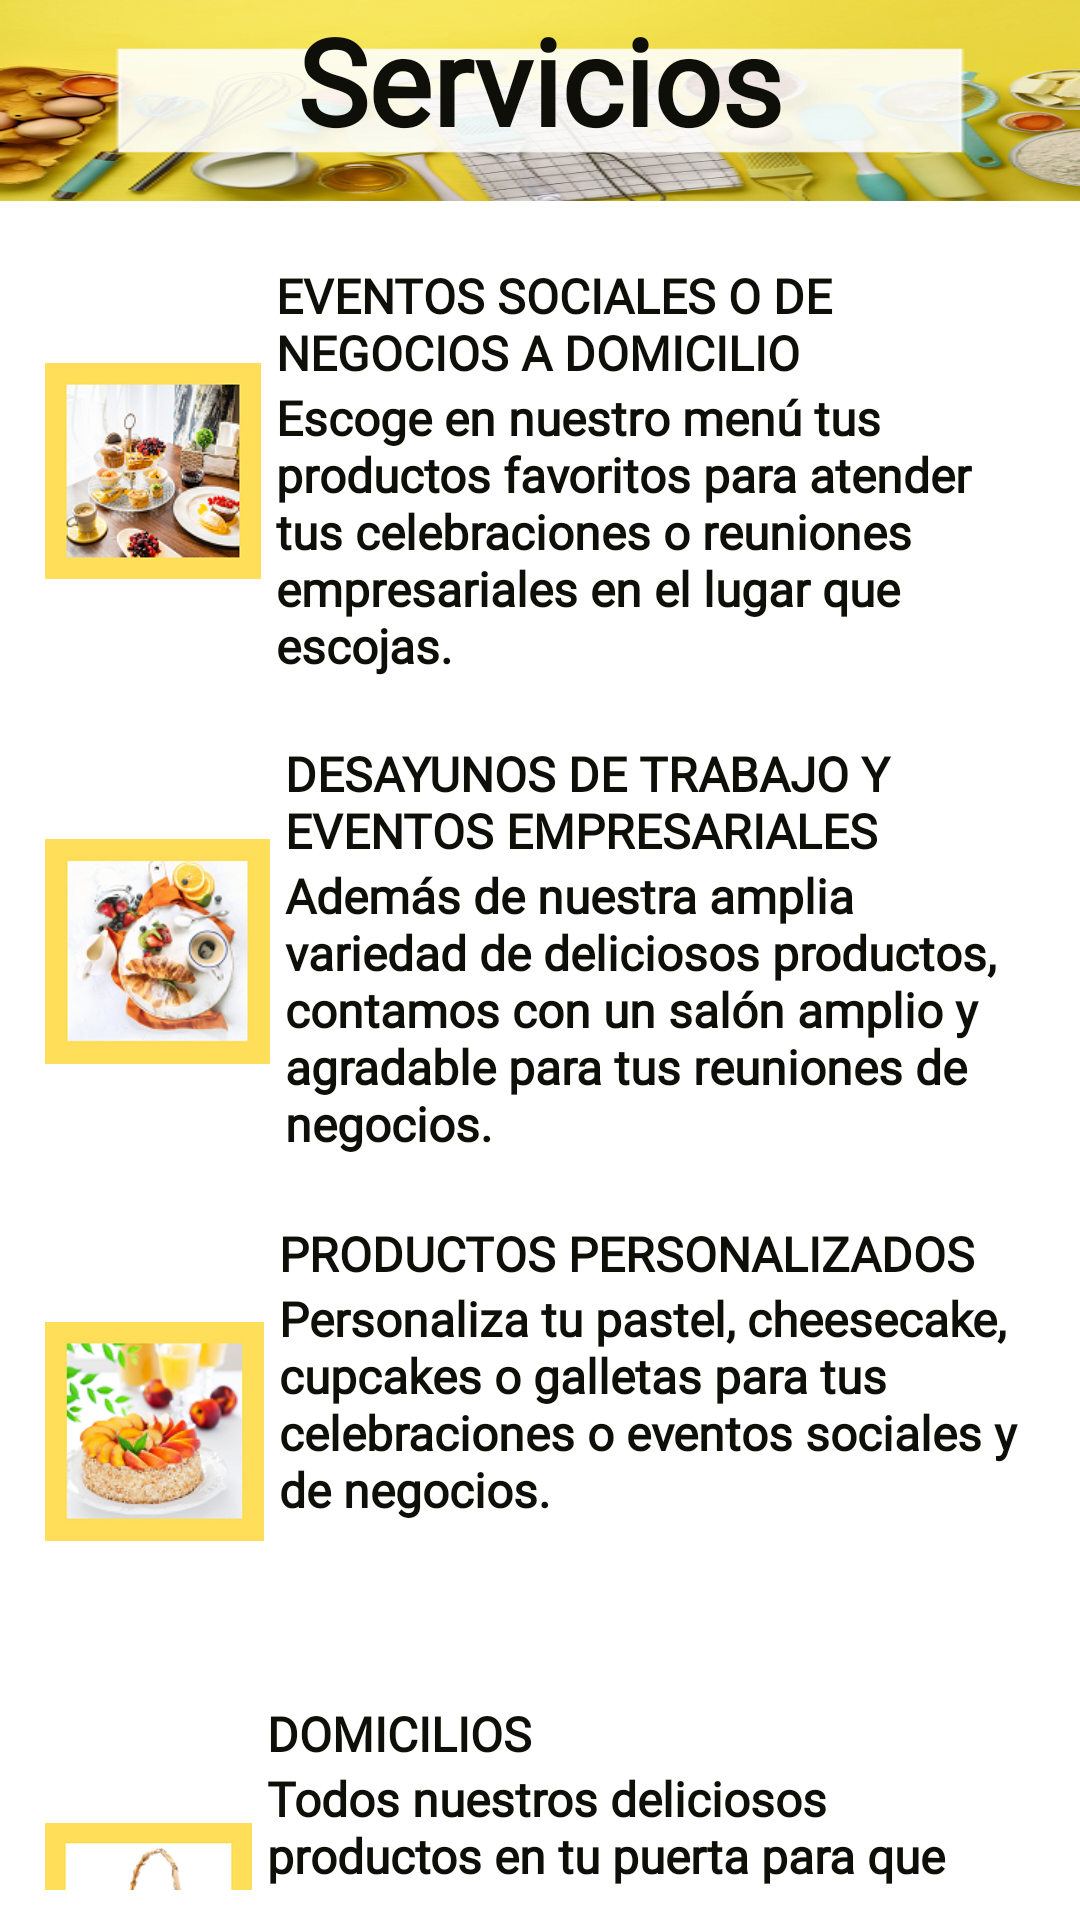

Icon bounding boxes for this 1080*1920 phone screenshot, format (x1, y1, x2, y2):
buffet: (45, 363, 261, 579)
